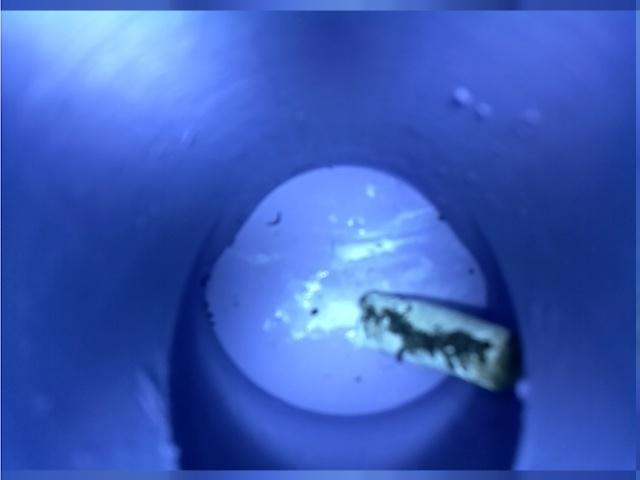megot: (336, 280, 530, 401)
